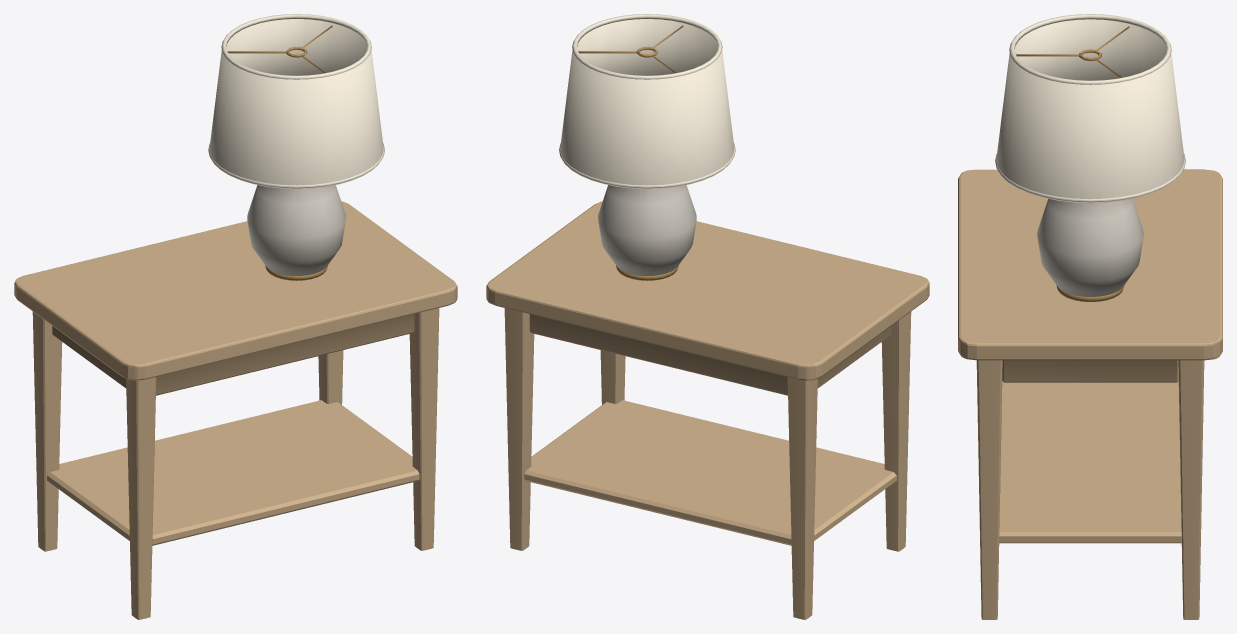
The model's file is tableLamp.glb.
The picture shows the model from 3 angles, left to right: view 1: azimuth 30°, elevation 25°; view 2: azimuth 150°, elevation 25°; view 3: azimuth 270°, elevation 25°; orthographic projection. The views are drawn at different scales.
Visible parts, largest first — view 1: tableLamp; view 2: tableLamp; view 3: tableLamp.
Part boxes in pixels (x1,y1,x2,y2): tableLamp: [14, 14, 457, 619]; tableLamp: [486, 14, 929, 619]; tableLamp: [958, 14, 1222, 619].
Size of the model in its own units: 0.66 by 0.9216 by 0.42.
